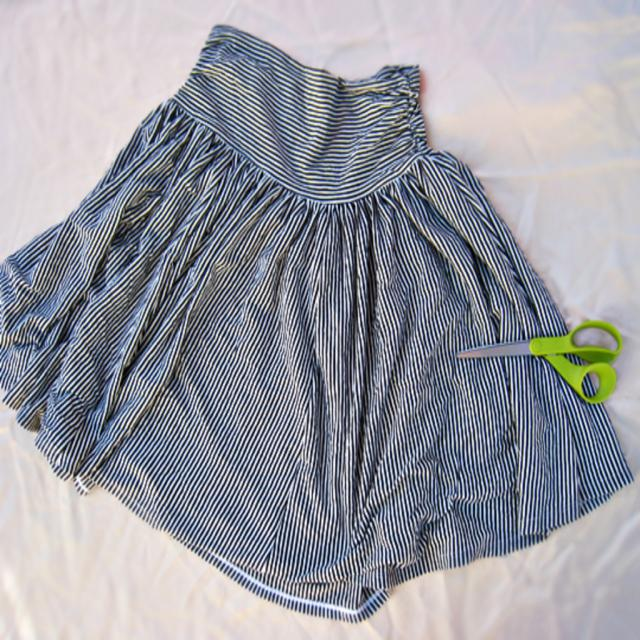scissors: (457, 319, 622, 404)
